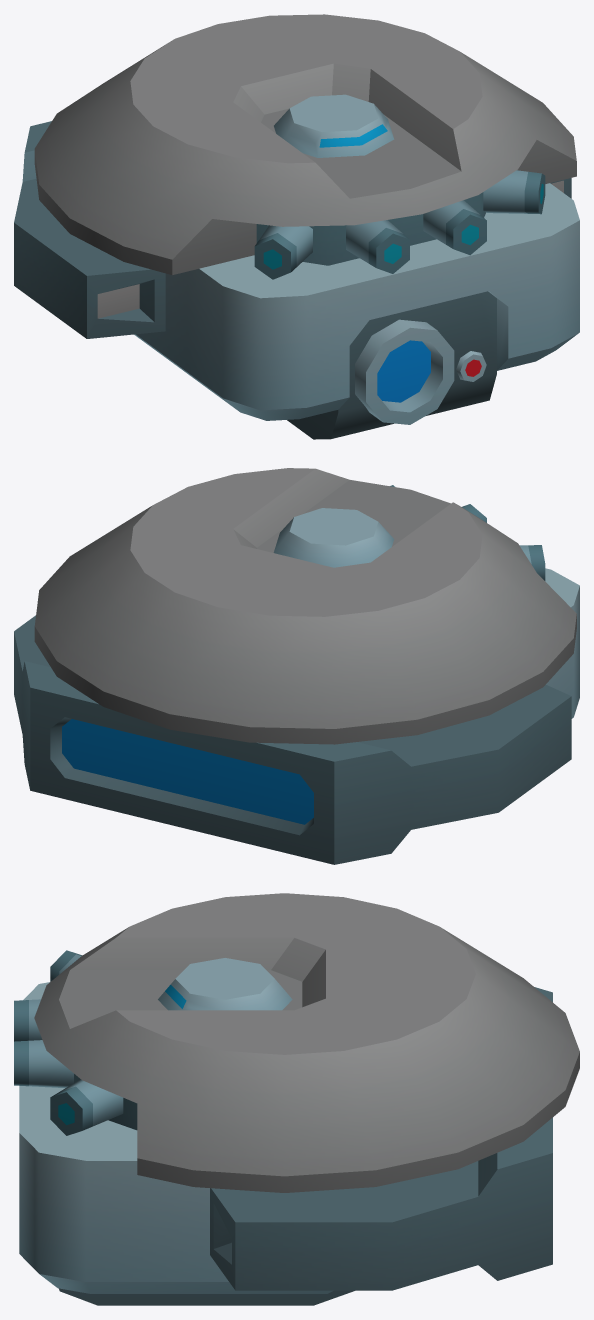
File: Drone_001.fbx
3 views of the same model, one above another, from view 1: azimuth 30°, elevation 25°; view 2: azimuth 150°, elevation 25°; view 3: azimuth 270°, elevation 25° (orthographic). The views are drawn at different scales.
Parts seen in each view (by area): view 1: Drone_001; view 2: Drone_001; view 3: Drone_001.
Part boxes in pixels (x1,y1,x2,y2): Drone_001: (14, 14, 579, 439); Drone_001: (14, 468, 579, 864); Drone_001: (14, 893, 579, 1305).
Size of the model in its own units: 53.29 by 49.85 by 28.18.
